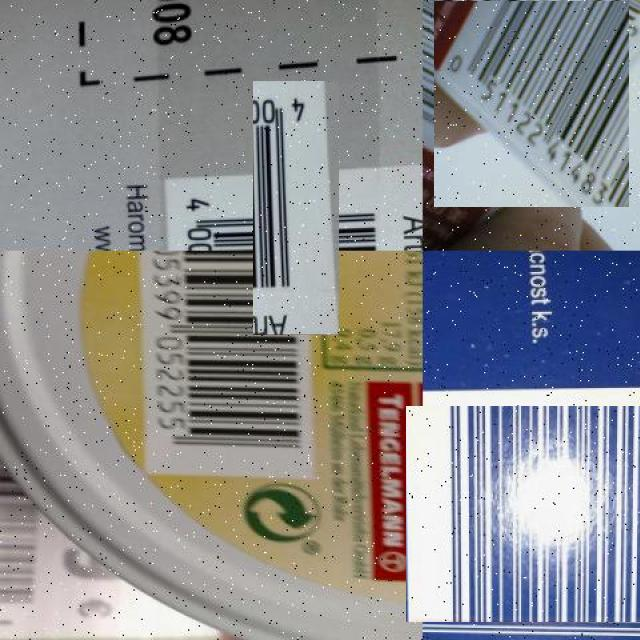Barcode: (415, 397, 640, 632), (136, 251, 324, 476), (429, 0, 635, 202), (211, 122, 381, 293)
